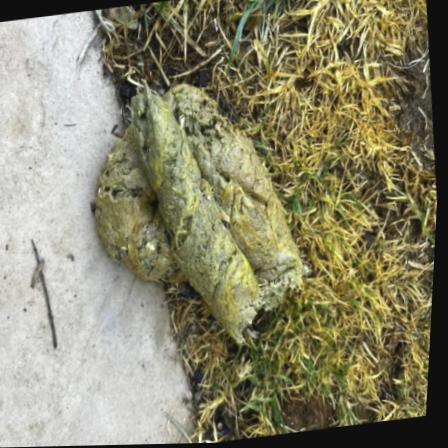dog-poop: (74, 61, 326, 340)
